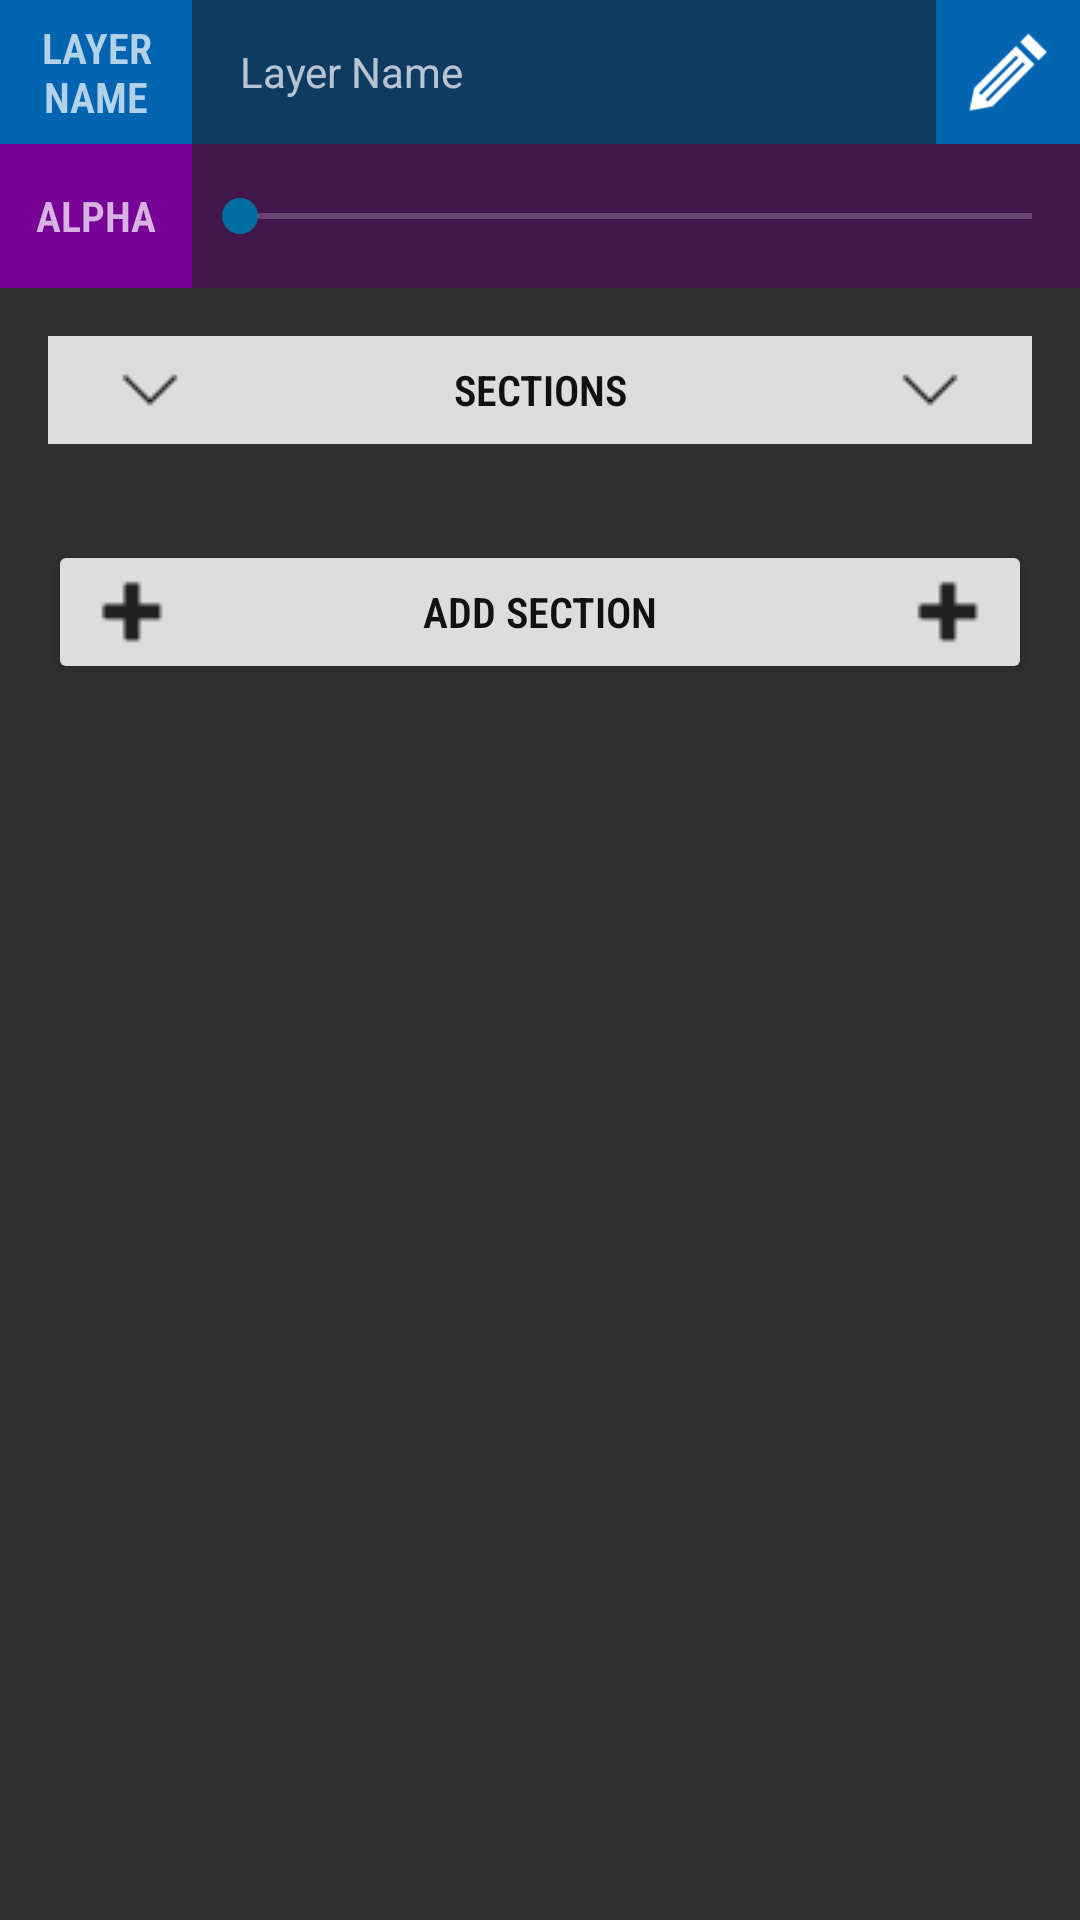

Point at icon controls on the screen. Image size 1080 × 1920, points as [x,y].
edit: [1008,72]
